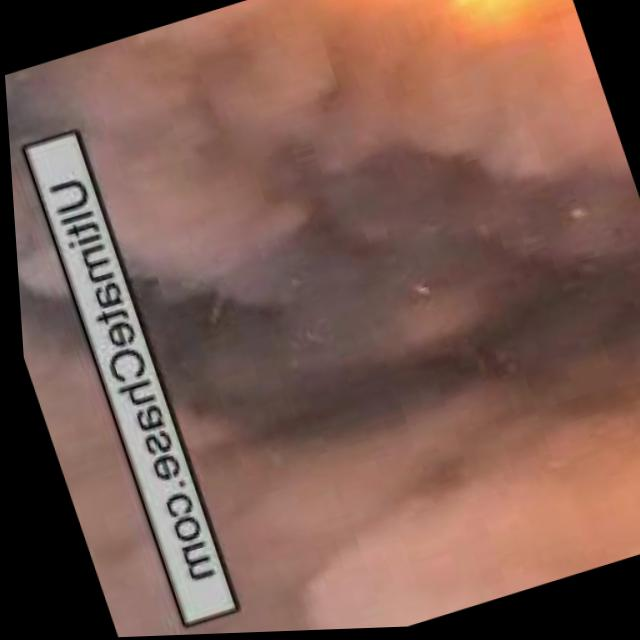Fire: (262, 0, 584, 116)
